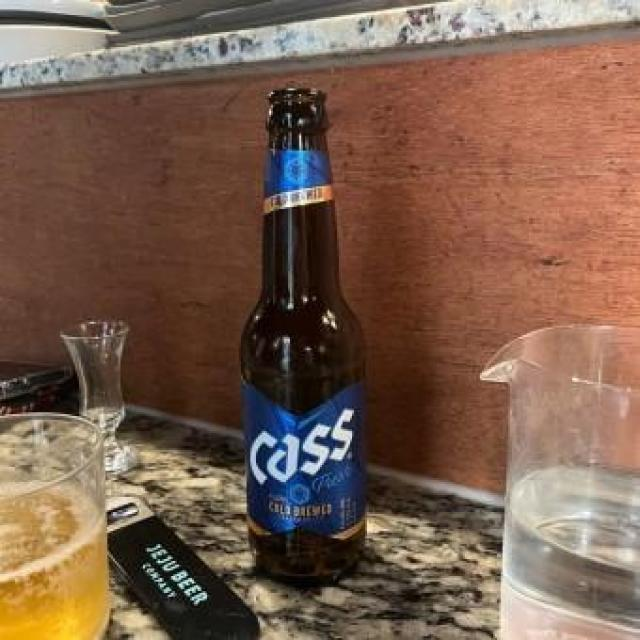beer-bottle: (235, 79, 378, 591)
